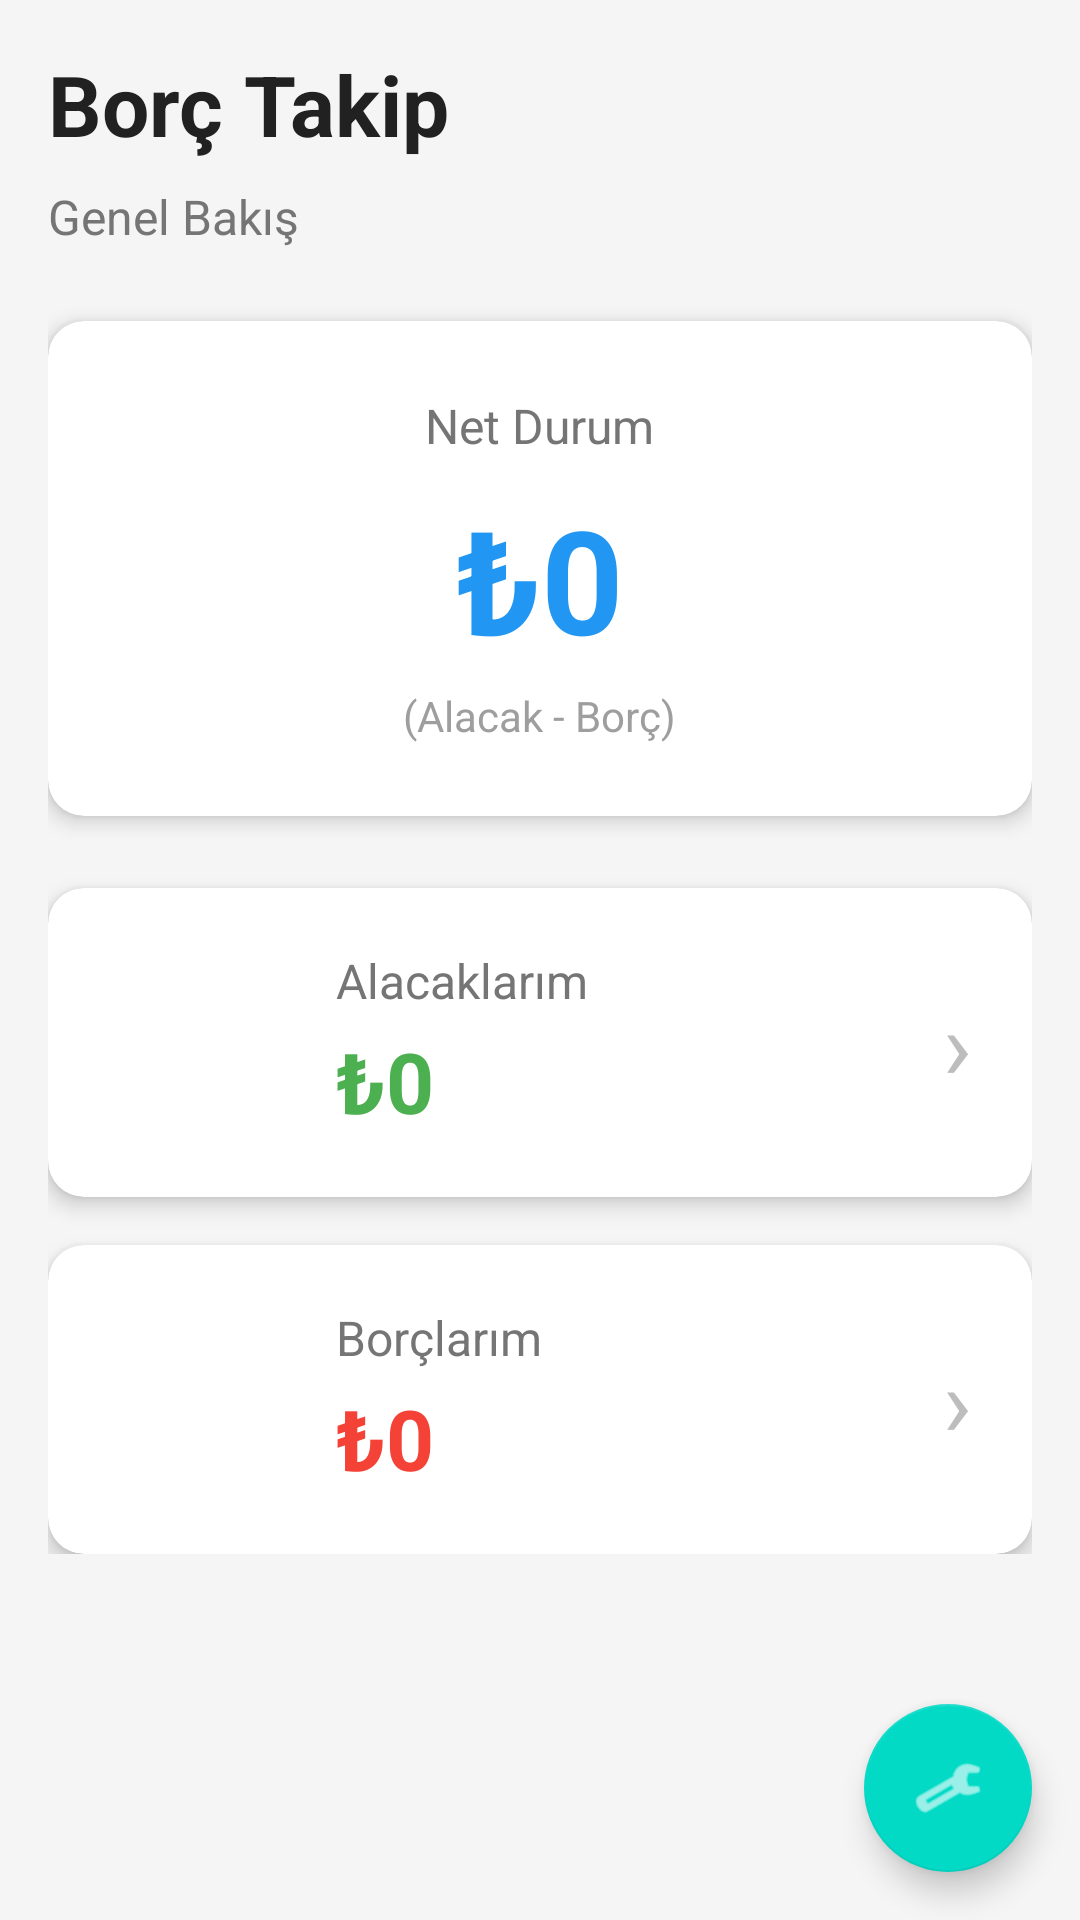

Screen size 1080×1920. Icon name, then its center in pixels as point (x, y):
Ayarlar: point (948, 1788)
